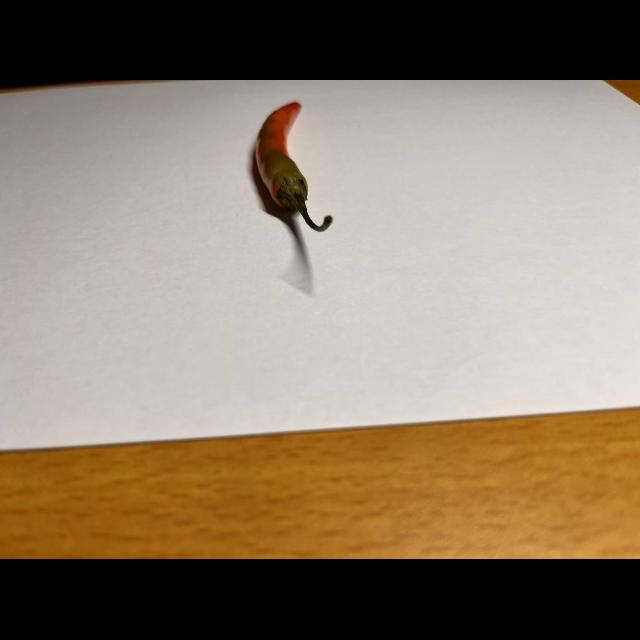chili_pepper: (249, 99, 337, 242)
